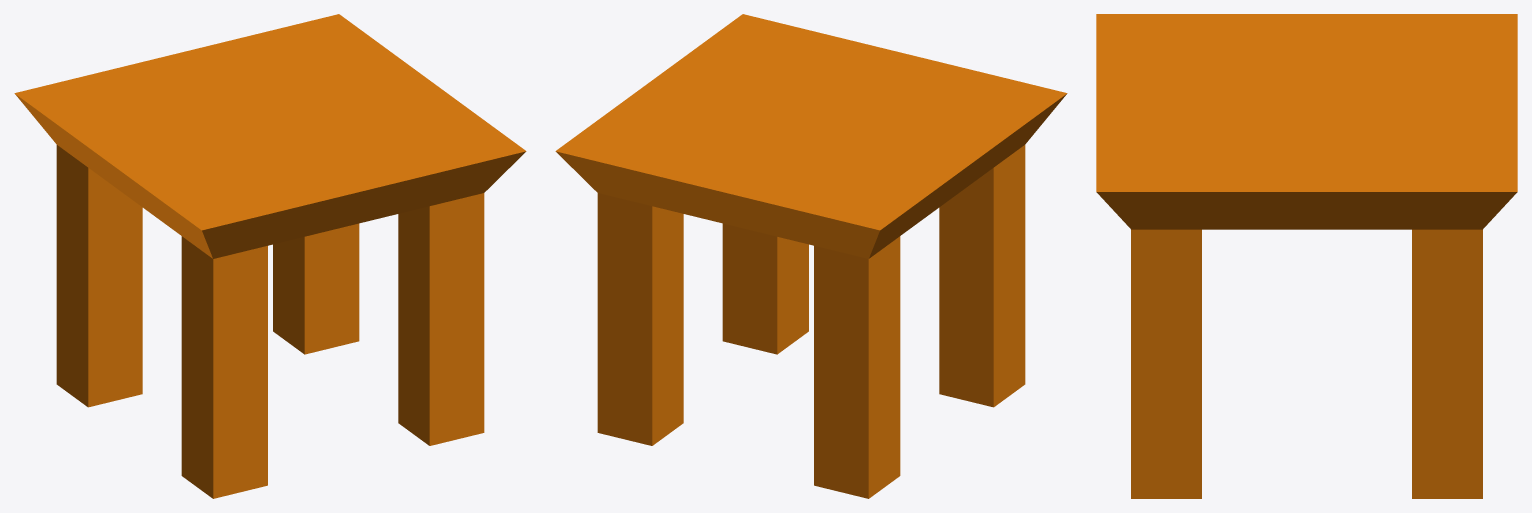
File: Table.fbx
The picture shows the model from 3 angles, left to right: view 1: azimuth 30°, elevation 25°; view 2: azimuth 150°, elevation 25°; view 3: azimuth 270°, elevation 25°; orthographic projection. The views are drawn at different scales.
Parts seen in each view (by area): view 1: Cube; view 2: Cube; view 3: Cube.
Boxes of the visible parts, box(x1,y1,x2,y2) form: Cube: box(14, 14, 526, 498); Cube: box(555, 14, 1067, 498); Cube: box(1096, 14, 1517, 498).
Size of the model in its own units: 200 by 168 by 200.
